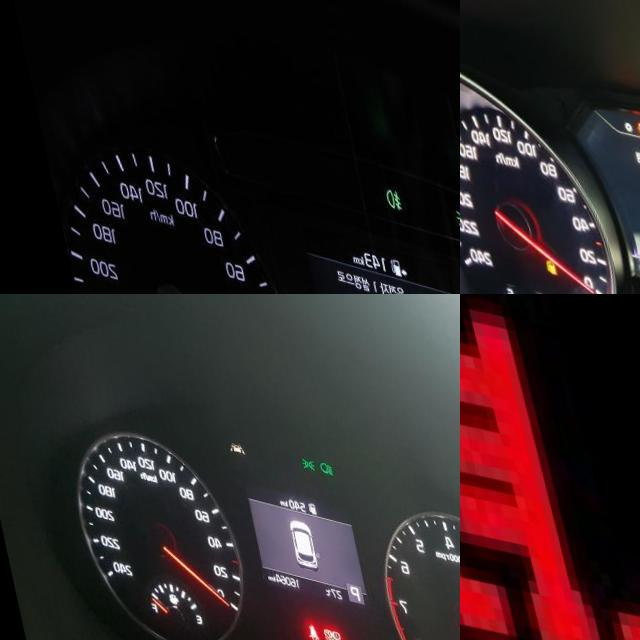Engine cooling system: (460, 294, 640, 640)
FrontFogLight: (375, 167, 393, 193)
LaneCenteringOff: (218, 427, 235, 442)
Low beam: (309, 442, 324, 459)
Low fuel level: (526, 251, 537, 266)
SideLamp: (445, 186, 460, 208), (291, 441, 306, 453)
